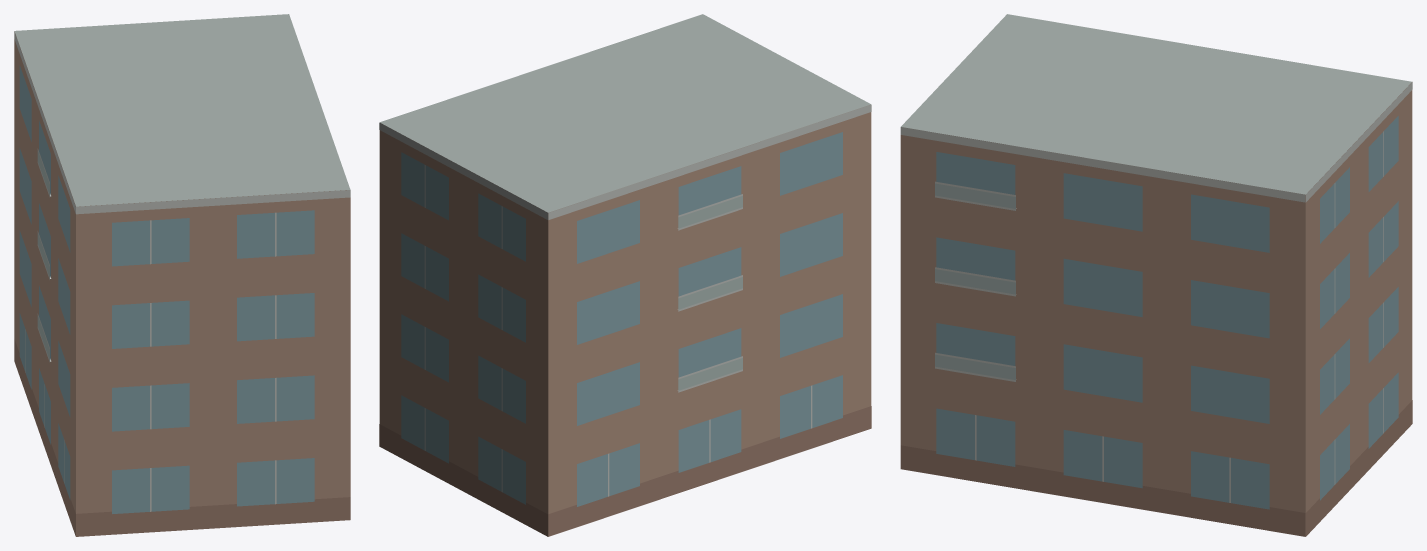
Rendered from survey-upis-32527770.glb.
The picture shows the model from 3 angles, left to right: view 1: azimuth 30°, elevation 25°; view 2: azimuth 150°, elevation 25°; view 3: azimuth 270°, elevation 25°; orthographic projection. The views are drawn at different scales.
Parts seen in each view (by area): view 1: survey-upis-32527770.tmp; view 2: survey-upis-32527770.tmp; view 3: survey-upis-32527770.tmp.
Boxes of the visible parts, x1,y1,x2,y2 form: survey-upis-32527770.tmp: [14, 14, 350, 536]; survey-upis-32527770.tmp: [379, 14, 871, 536]; survey-upis-32527770.tmp: [900, 14, 1412, 536].
Size of the model in its own units: 11.9 by 10.5 by 14.24.
